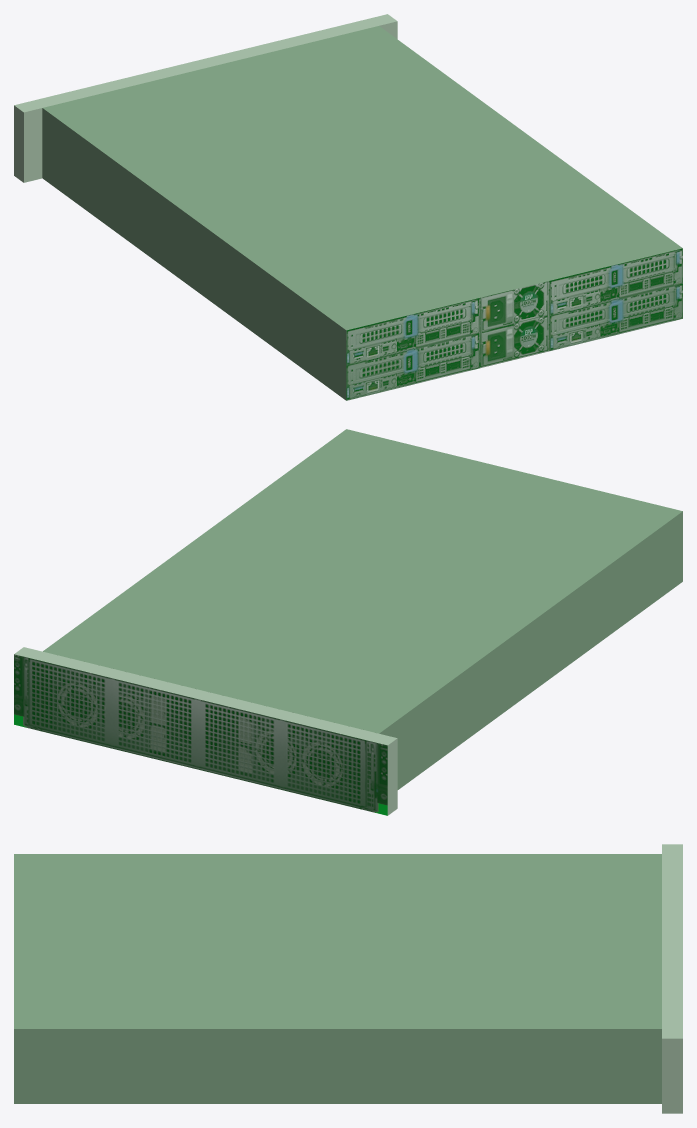
3 views of the same model, one above another, from view 1: azimuth 30°, elevation 25°; view 2: azimuth 150°, elevation 25°; view 3: azimuth 270°, elevation 25° (orthographic). The views are drawn at different scales.
Parts seen in each view (by area): view 1: Chassis_Cube; view 2: Chassis_Cube; view 3: Chassis_Cube.
Part boxes in pixels (x1=…): Chassis_Cube: x1=14, y1=14, x2=682, y2=400; Chassis_Cube: x1=14, y1=429, x2=682, y2=815; Chassis_Cube: x1=14, y1=844, x2=682, y2=1113.
Bounding box in the file's own units: 0.6426 × 0.1157 × 0.9344.
